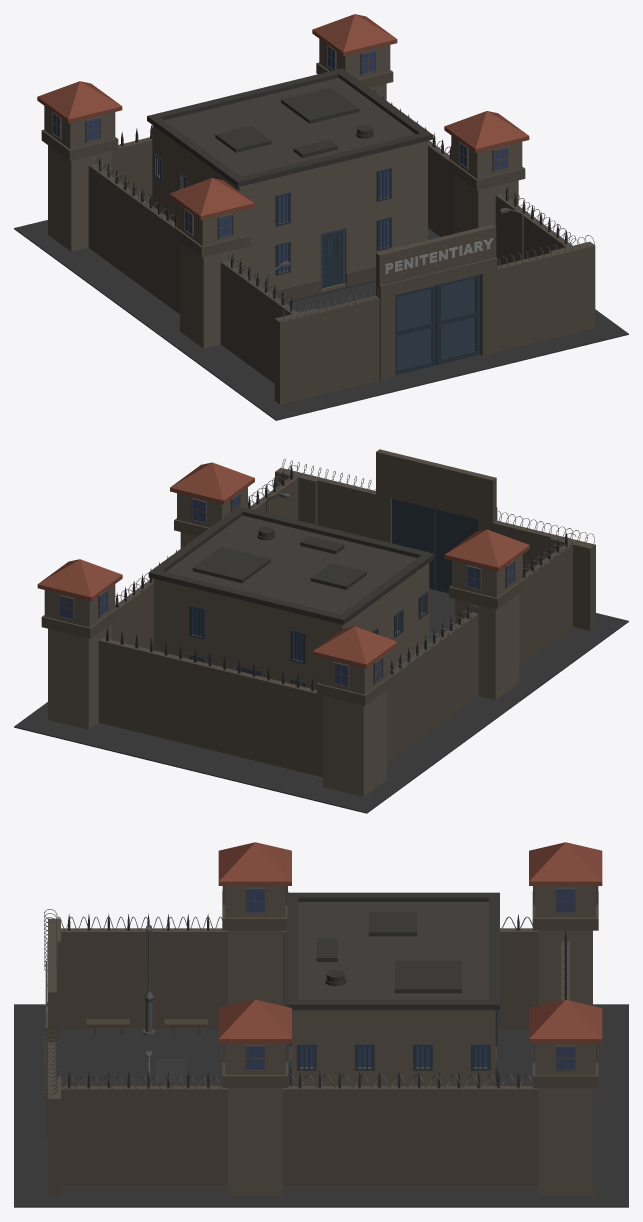
Rendered from penitentiary.fbx.
The picture shows the model from 3 angles, top to bottom: view 1: azimuth 30°, elevation 25°; view 2: azimuth 150°, elevation 25°; view 3: azimuth 270°, elevation 25°; orthographic projection. The views are drawn at different scales.
Parts seen in each view (by area): view 1: prison_walls_1, prison_building_1, prison_tower_1, prison ground 001, prison_windows_1, prison_fences_1, prison_doors_1; view 2: prison_walls_1, prison_building_1, prison_tower_1, prison ground 001, prison_fences_1, prison_windows_1; view 3: prison_walls_1, prison_tower_1, prison_building_1, prison ground 001, prison_fences_1, prison_windows_1, prison_bench_1, prison_ light post 1.
Part boxes in pixels (<box>): prison_walls_1: <box>88,90,595,404</box>; prison_building_1: <box>147,68,432,303</box>; prison_tower_1: <box>37,14,529,348</box>; prison ground 001: <box>14,220,628,420</box>; prison_windows_1: <box>153,153,391,275</box>; prison_fences_1: <box>91,107,594,321</box>; prison_doors_1: <box>320,228,345,288</box>; prison_walls_1: <box>98,449,595,777</box>; prison_building_1: <box>148,506,434,689</box>; prison_tower_1: <box>37,462,529,796</box>; prison ground 001: <box>14,588,628,813</box>; prison_fences_1: <box>115,459,594,675</box>; prison_windows_1: <box>189,591,428,687</box>; prison_walls_1: <box>45,913,569,1195</box>; prison_tower_1: <box>218,842,602,1195</box>; prison_building_1: <box>287,892,499,1085</box>; prison ground 001: <box>14,1004,628,1207</box>; prison_fences_1: <box>44,909,532,1098</box>; prison_windows_1: <box>289,1010,497,1085</box>; prison_bench_1: <box>86,1019,207,1034</box>; prison_ light post 1: <box>142,925,155,1085</box>.
Size of the model in its own units: 5.09 by 2.18 by 6.54.
